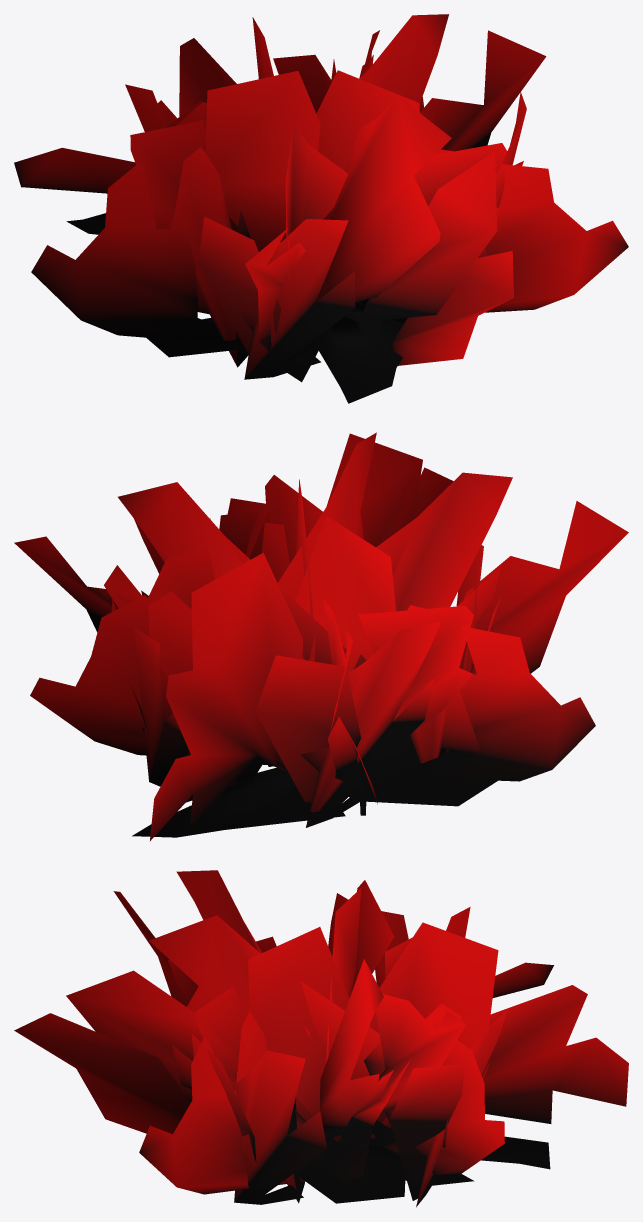
File: SM_Shrub_With_LODs_01.FBX
3 renders of one model, top to bottom at view 1: azimuth 30°, elevation 25°; view 2: azimuth 150°, elevation 25°; view 3: azimuth 270°, elevation 25°, orthographic. The views are drawn at different scales.
Parts seen in each view (by area): view 1: SM_Shrub_With_LODs_01_LOD0; view 2: SM_Shrub_With_LODs_01_LOD0; view 3: SM_Shrub_With_LODs_01_LOD0.
Boxes of the visible parts, x1,y1,x2,y2 form: SM_Shrub_With_LODs_01_LOD0: (14,14,628,403); SM_Shrub_With_LODs_01_LOD0: (14,432,628,840); SM_Shrub_With_LODs_01_LOD0: (14,870,628,1207).
Bounding box in the file's own units: 80.59 × 86.27 × 40.03.
